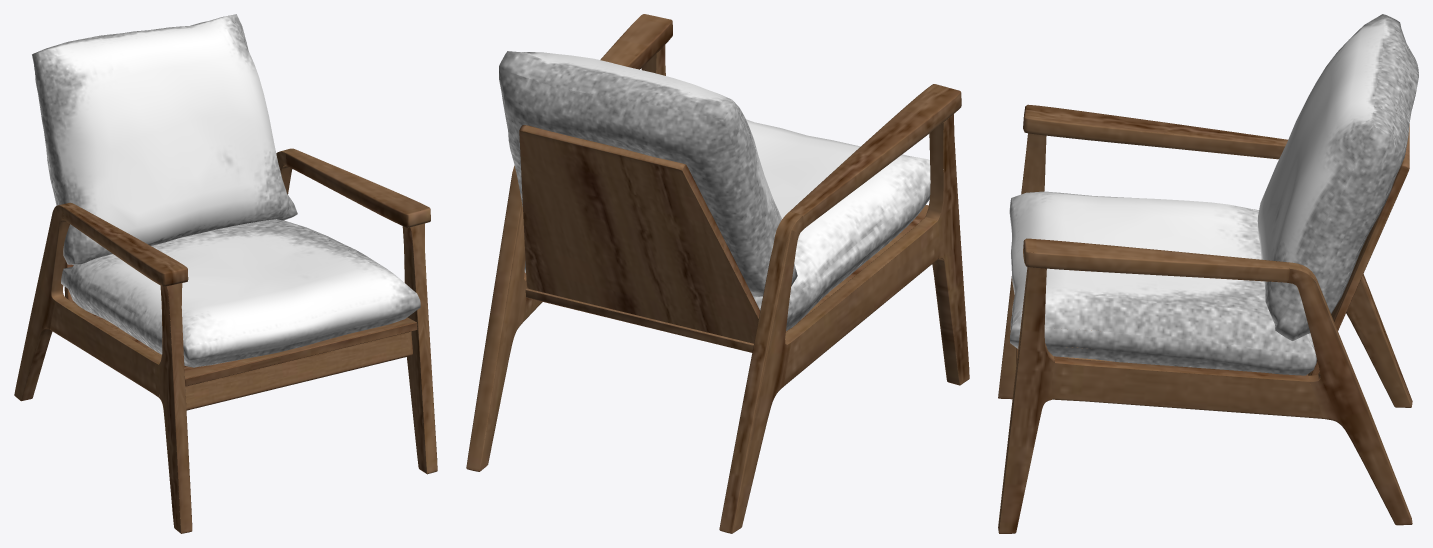
The model's file is armchair.glb.
3 renders of one model, left to right at view 1: azimuth 30°, elevation 25°; view 2: azimuth 150°, elevation 25°; view 3: azimuth 270°, elevation 25°, orthographic. The views are drawn at different scales.
Parts seen in each view (by area): view 1: modern_arm_chair_01_legs; view 2: modern_arm_chair_01_legs; view 3: modern_arm_chair_01_legs.
Boxes of the visible parts, bbox=[...] form: modern_arm_chair_01_legs: bbox=[14, 14, 437, 533]; modern_arm_chair_01_legs: bbox=[466, 14, 969, 533]; modern_arm_chair_01_legs: bbox=[998, 14, 1418, 533].
Bounding box in the file's own units: 0.8204 × 1.02 × 0.9868.
Materials: 2 (2 with a texture image).
